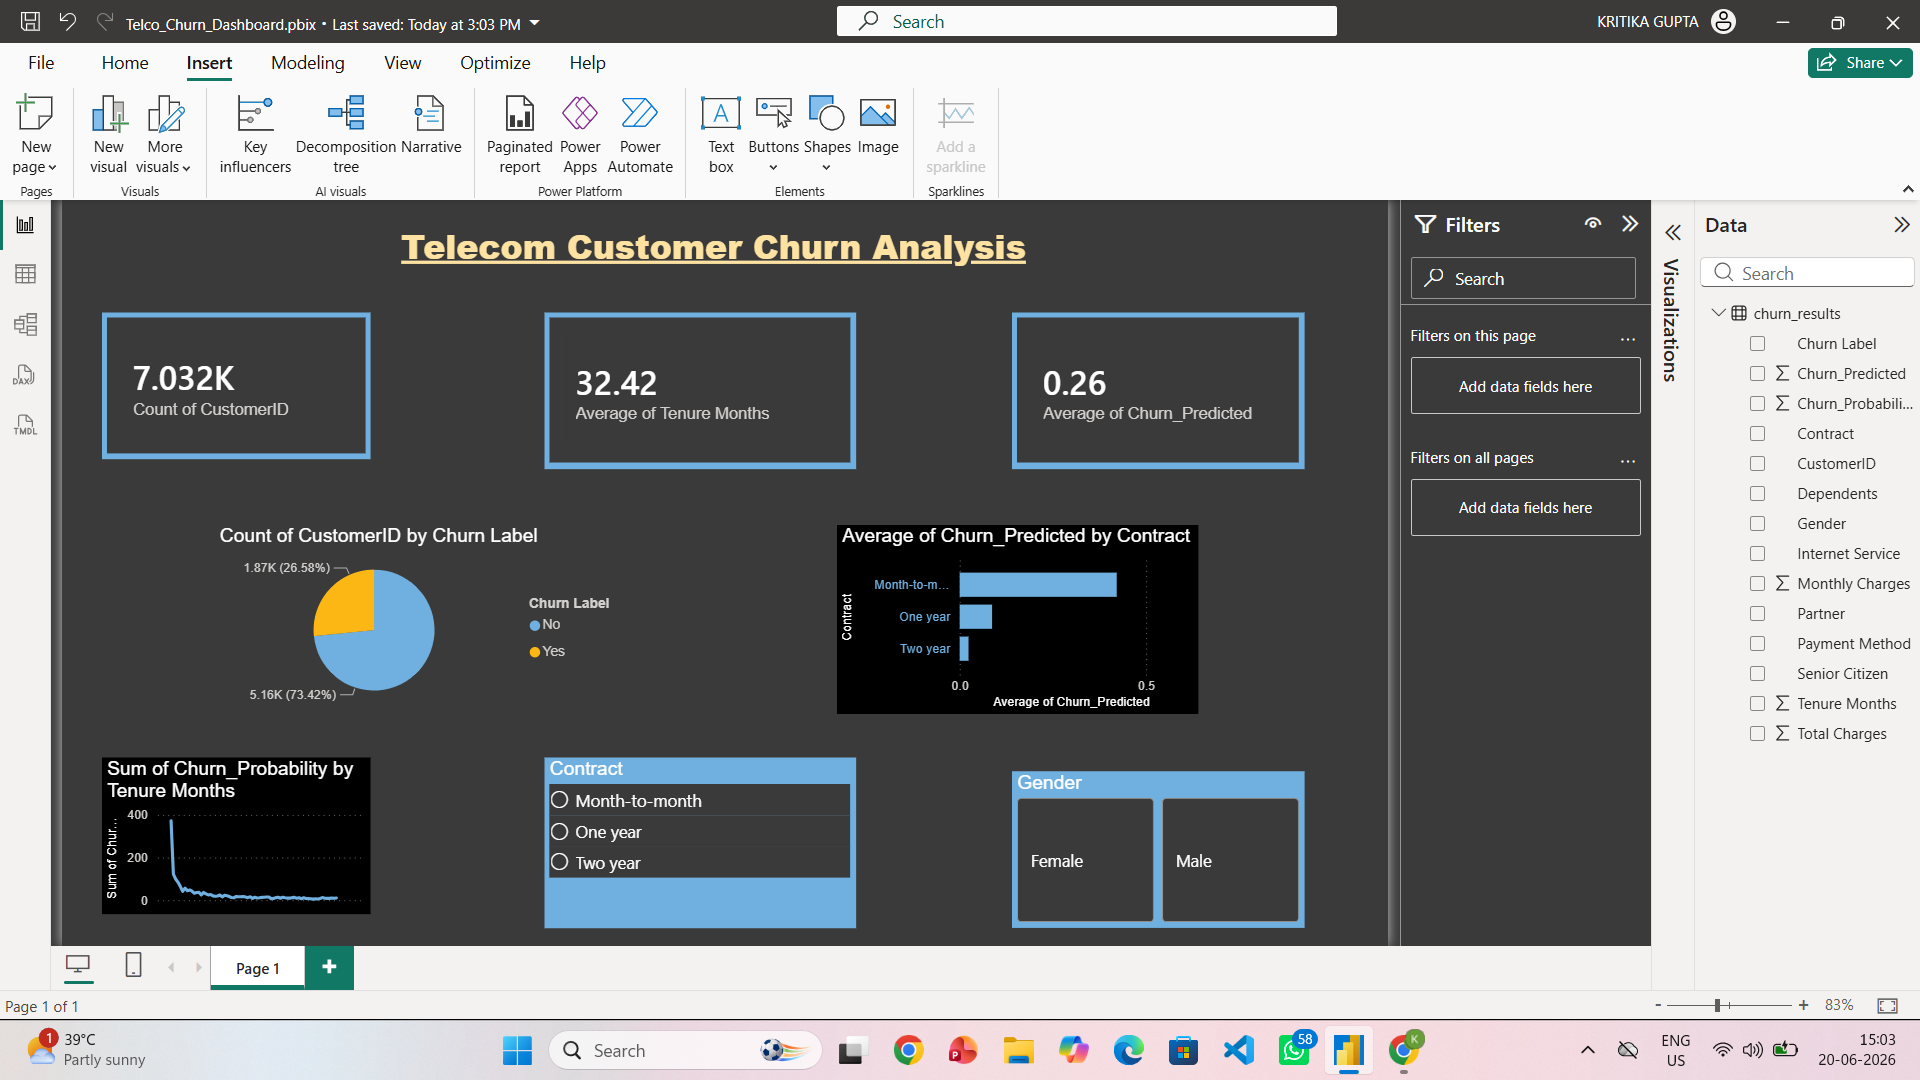

This screenshot's page, from the dashboard's own definition file:
{"tool":"powerbi","page":{"name":"Page 1","canvas":[1280,720],"ordinal":0},"visuals":[{"type":"pieChart","fields":{"Category":["churn_results.Churn Label"],"Y":["CountNonNull(churn_results.CustomerID)"]},"box":[146.8,314.2,403.4,182.5],"z":0},{"type":"clusteredBarChart","fields":{"Category":["churn_results.Contract"],"Y":["Avg(churn_results.Churn_Predicted)"]},"box":[747.9,314.2,348.5,182.5],"z":1000},{"type":"lineChart","fields":{"Category":["churn_results.Tenure Months"],"Y":["Sum(churn_results.Churn_Probability)"]},"box":[38.4,537.9,259.3,150.9],"z":2000},{"type":"listSlicer","fields":{"Values":["churn_results.Contract"]},"box":[465.2,537.9,300.5,164.7],"z":3000},{"type":"textbox","box":[167.4,16.5,882.3,124.9],"z":4000},{"type":"cardVisual","fields":{"Data":["Avg(churn_results.Churn_Predicted)"]},"box":[916.6,108.4,282.7,150.9],"z":5000},{"type":"cardVisual","fields":{"Data":["Avg(churn_results.Tenure Months)"]},"box":[465.2,108.4,300.5,150.9],"z":6000},{"type":"advancedSlicerVisual","fields":{"Values":["churn_results.Gender"]},"box":[916.6,551.6,282.7,150.9],"z":7000},{"type":"cardVisual","fields":{"Data":["CountNonNull(churn_results.CustomerID)"]},"box":[38.4,108.4,259.3,141.3],"z":8000}]}

Visuals, with their boxes on the page's 1280x720 design canvas (x1, y1, x2, y2). These are canvas units, not pixel positions in the 1920x1080 screenshot, which may show the page scaled, cropped or inside an application window:
pieChart - churn_results.Churn Label x CountNonNull(churn_results.CustomerID): BBox(147, 314, 550, 497)
clusteredBarChart - churn_results.Contract x Avg(churn_results.Churn_Predicted): BBox(748, 314, 1096, 497)
lineChart - churn_results.Tenure Months x Sum(churn_results.Churn_Probability): BBox(38, 538, 298, 689)
listSlicer - churn_results.Contract: BBox(465, 538, 766, 703)
textbox: BBox(167, 16, 1050, 141)
cardVisual - Avg(churn_results.Churn_Predicted): BBox(917, 108, 1199, 259)
cardVisual - Avg(churn_results.Tenure Months): BBox(465, 108, 766, 259)
advancedSlicerVisual - churn_results.Gender: BBox(917, 552, 1199, 702)
cardVisual - CountNonNull(churn_results.CustomerID): BBox(38, 108, 298, 250)
